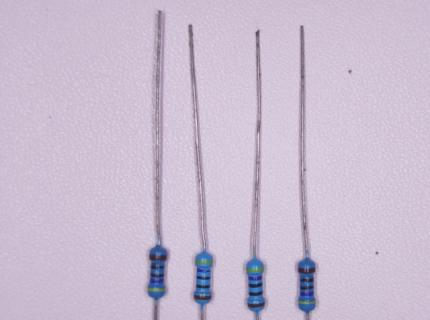Black band: (149, 272, 165, 278), (248, 282, 263, 288), (248, 290, 263, 296), (196, 275, 211, 281), (196, 284, 211, 289), (150, 265, 165, 270), (300, 285, 314, 290), (299, 278, 314, 282)
Brown band: (149, 253, 167, 261), (193, 294, 212, 301), (247, 301, 265, 308), (298, 267, 316, 274)
Violet band: (248, 275, 263, 281), (149, 278, 164, 284), (299, 291, 315, 296), (197, 268, 211, 273)
Yellow band: (246, 266, 265, 272), (147, 287, 166, 292), (195, 259, 213, 264), (298, 300, 316, 305)
